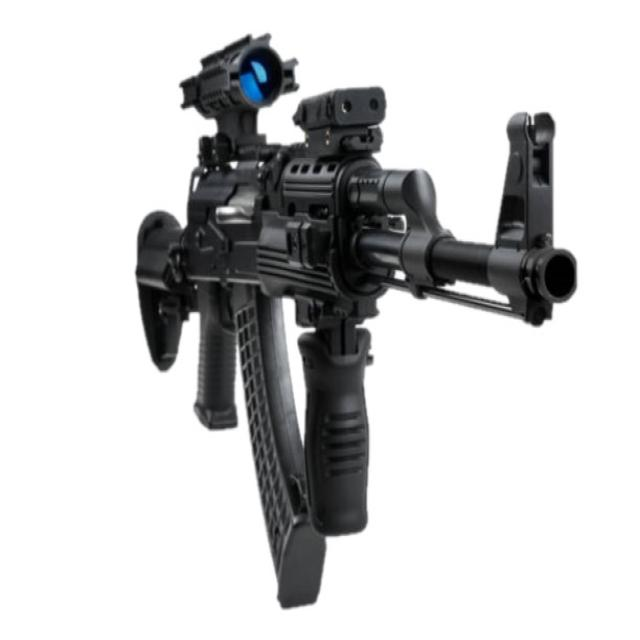rifle: (131, 33, 585, 636)
